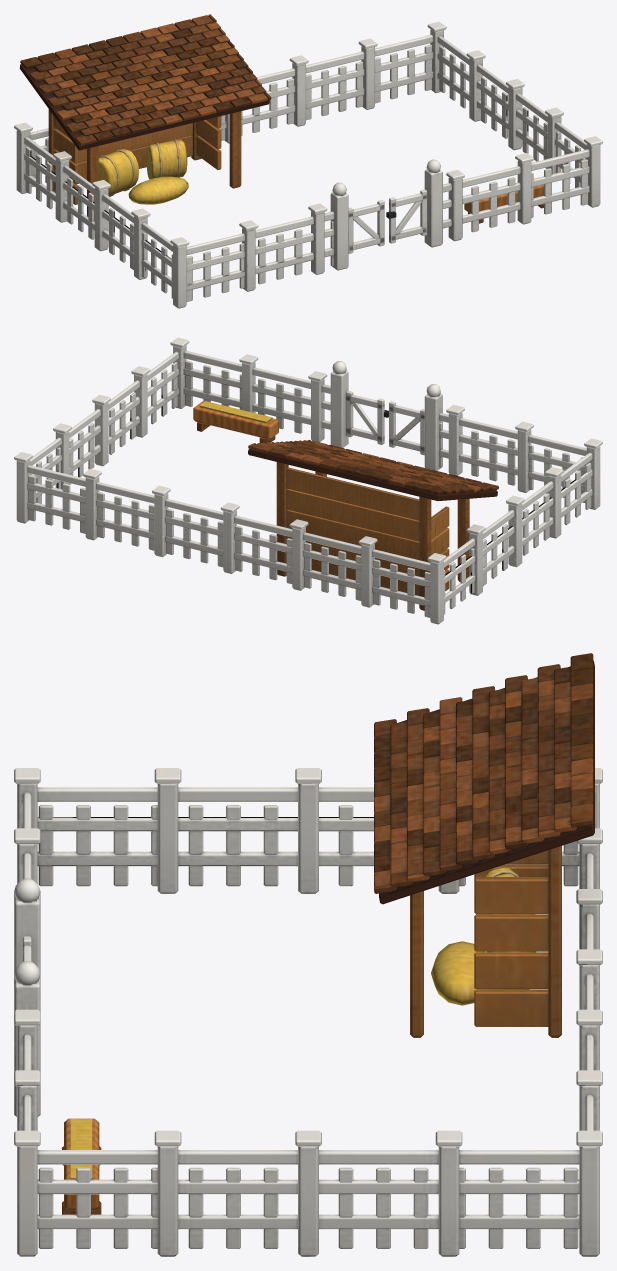
Rendered from jacob_fold.glb.
3 views of the same model, one above another, from view 1: azimuth 30°, elevation 25°; view 2: azimuth 150°, elevation 25°; view 3: azimuth 270°, elevation 25° (orthographic). The views are drawn at different scales.
Parts seen in each view (by area): view 1: jacob_fold, gate1, gate0; view 2: jacob_fold, gate1, gate0; view 3: jacob_fold.
Part boxes in pixels (x1=…): jacob_fold: x1=14, y1=14, x2=602, y2=308; gate1: x1=386, y1=189, x2=427, y2=243; gate0: x1=348, y1=200, x2=384, y2=253; jacob_fold: x1=14, y1=337, x2=602, y2=624; gate1: x1=346, y1=390, x2=388, y2=444; gate0: x1=389, y1=401, x2=424, y2=455; jacob_fold: x1=14, y1=653, x2=602, y2=1256.
Bounding box in the file's own units: 2.99 × 0.9342 × 1.99.
Materials: 1 (1 with a texture image).
